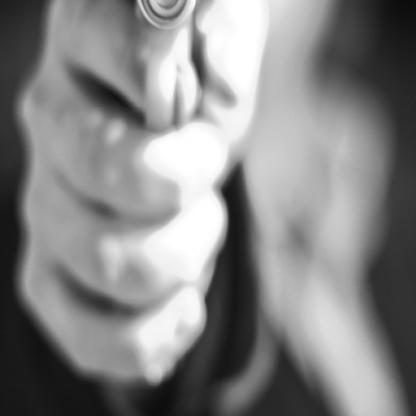gun: (120, 0, 210, 130)
